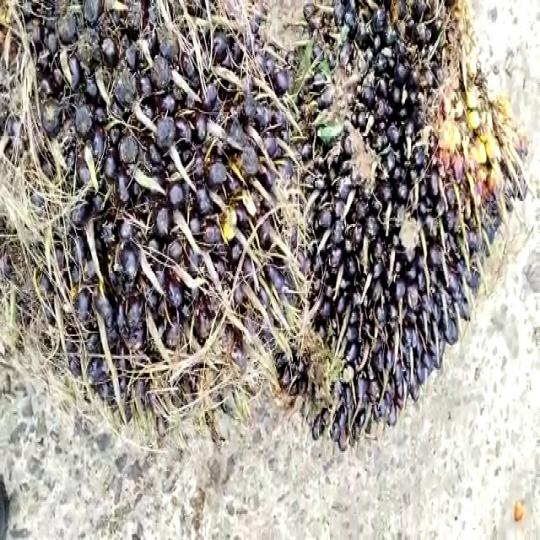mentah: (0, 0, 535, 449)
